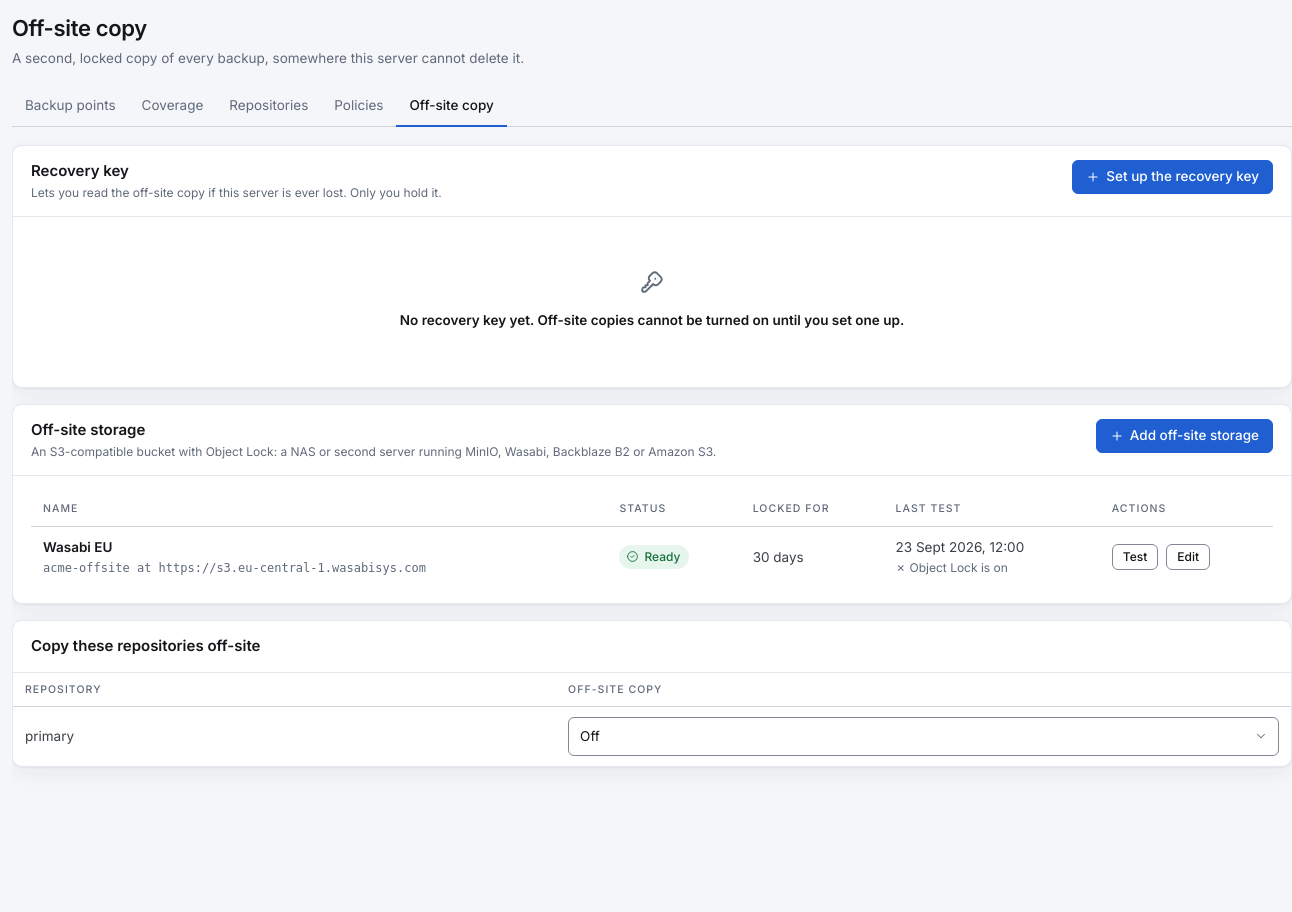
Scenario: off-site page › shows the server's refusal when off-site cannot be turned on
Select "Wasabi EU" in the dropdown named "Off-site copy for primary": (924, 736) [568,717,1279,756]
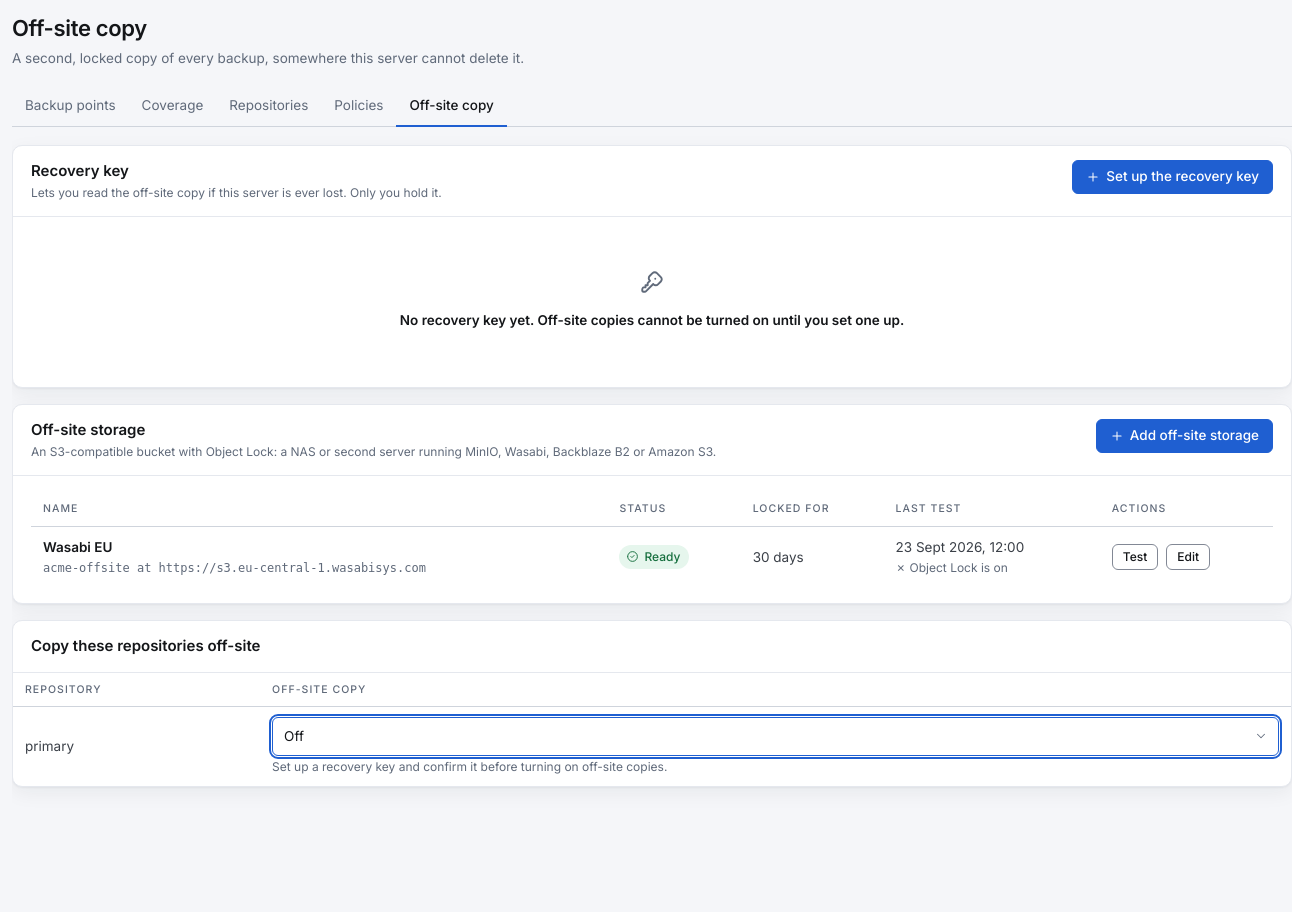
Expected: the message shows "recovery key", [272,758,667,774]
